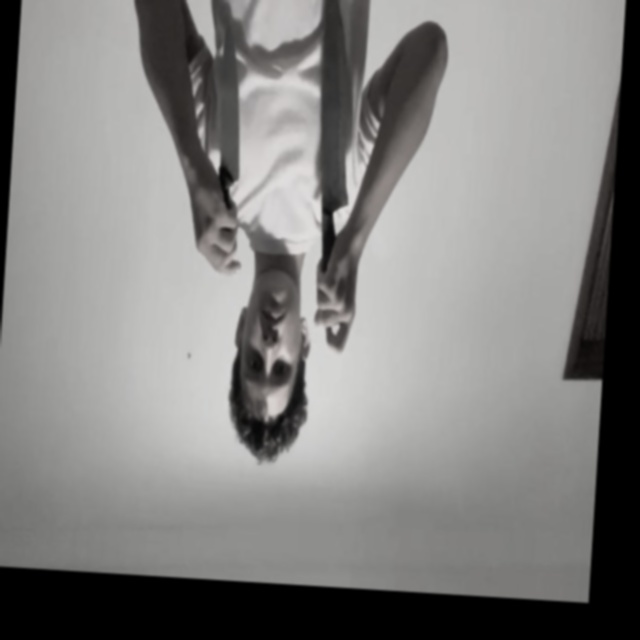Sharp-Object: (312, 0, 363, 212), (214, 24, 249, 182)
